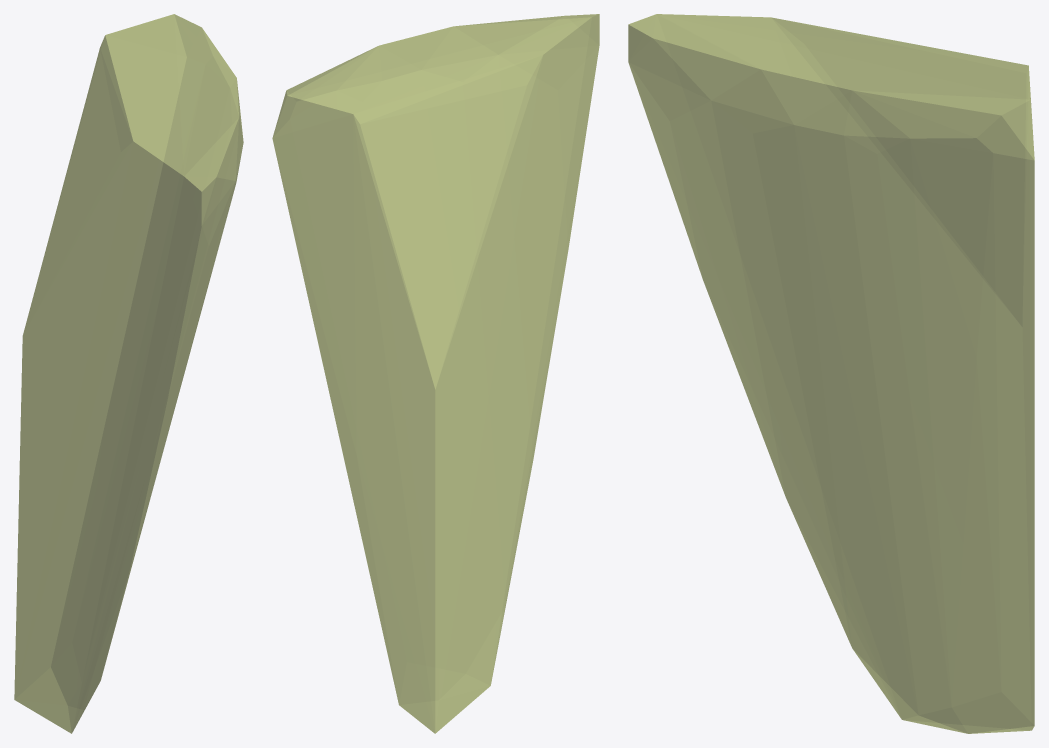
3 views of the same model, side by side, from view 1: azimuth 30°, elevation 25°; view 2: azimuth 150°, elevation 25°; view 3: azimuth 270°, elevation 25° (orthographic). The views are drawn at different scales.
Parts seen in each view (by area): view 1: Shape_IndexedFaceSet.002_Shape_IndexedFaceSet.12273; view 2: Shape_IndexedFaceSet.002_Shape_IndexedFaceSet.12273; view 3: Shape_IndexedFaceSet.002_Shape_IndexedFaceSet.12273.
Boxes of the visible parts, x1,y1,x2,y2 form: Shape_IndexedFaceSet.002_Shape_IndexedFaceSet.12273: (14,14,243,733); Shape_IndexedFaceSet.002_Shape_IndexedFaceSet.12273: (272,14,599,733); Shape_IndexedFaceSet.002_Shape_IndexedFaceSet.12273: (628,14,1034,733).
Bounding box in the file's own units: 0.2363 × 0.8348 × 0.4288.
